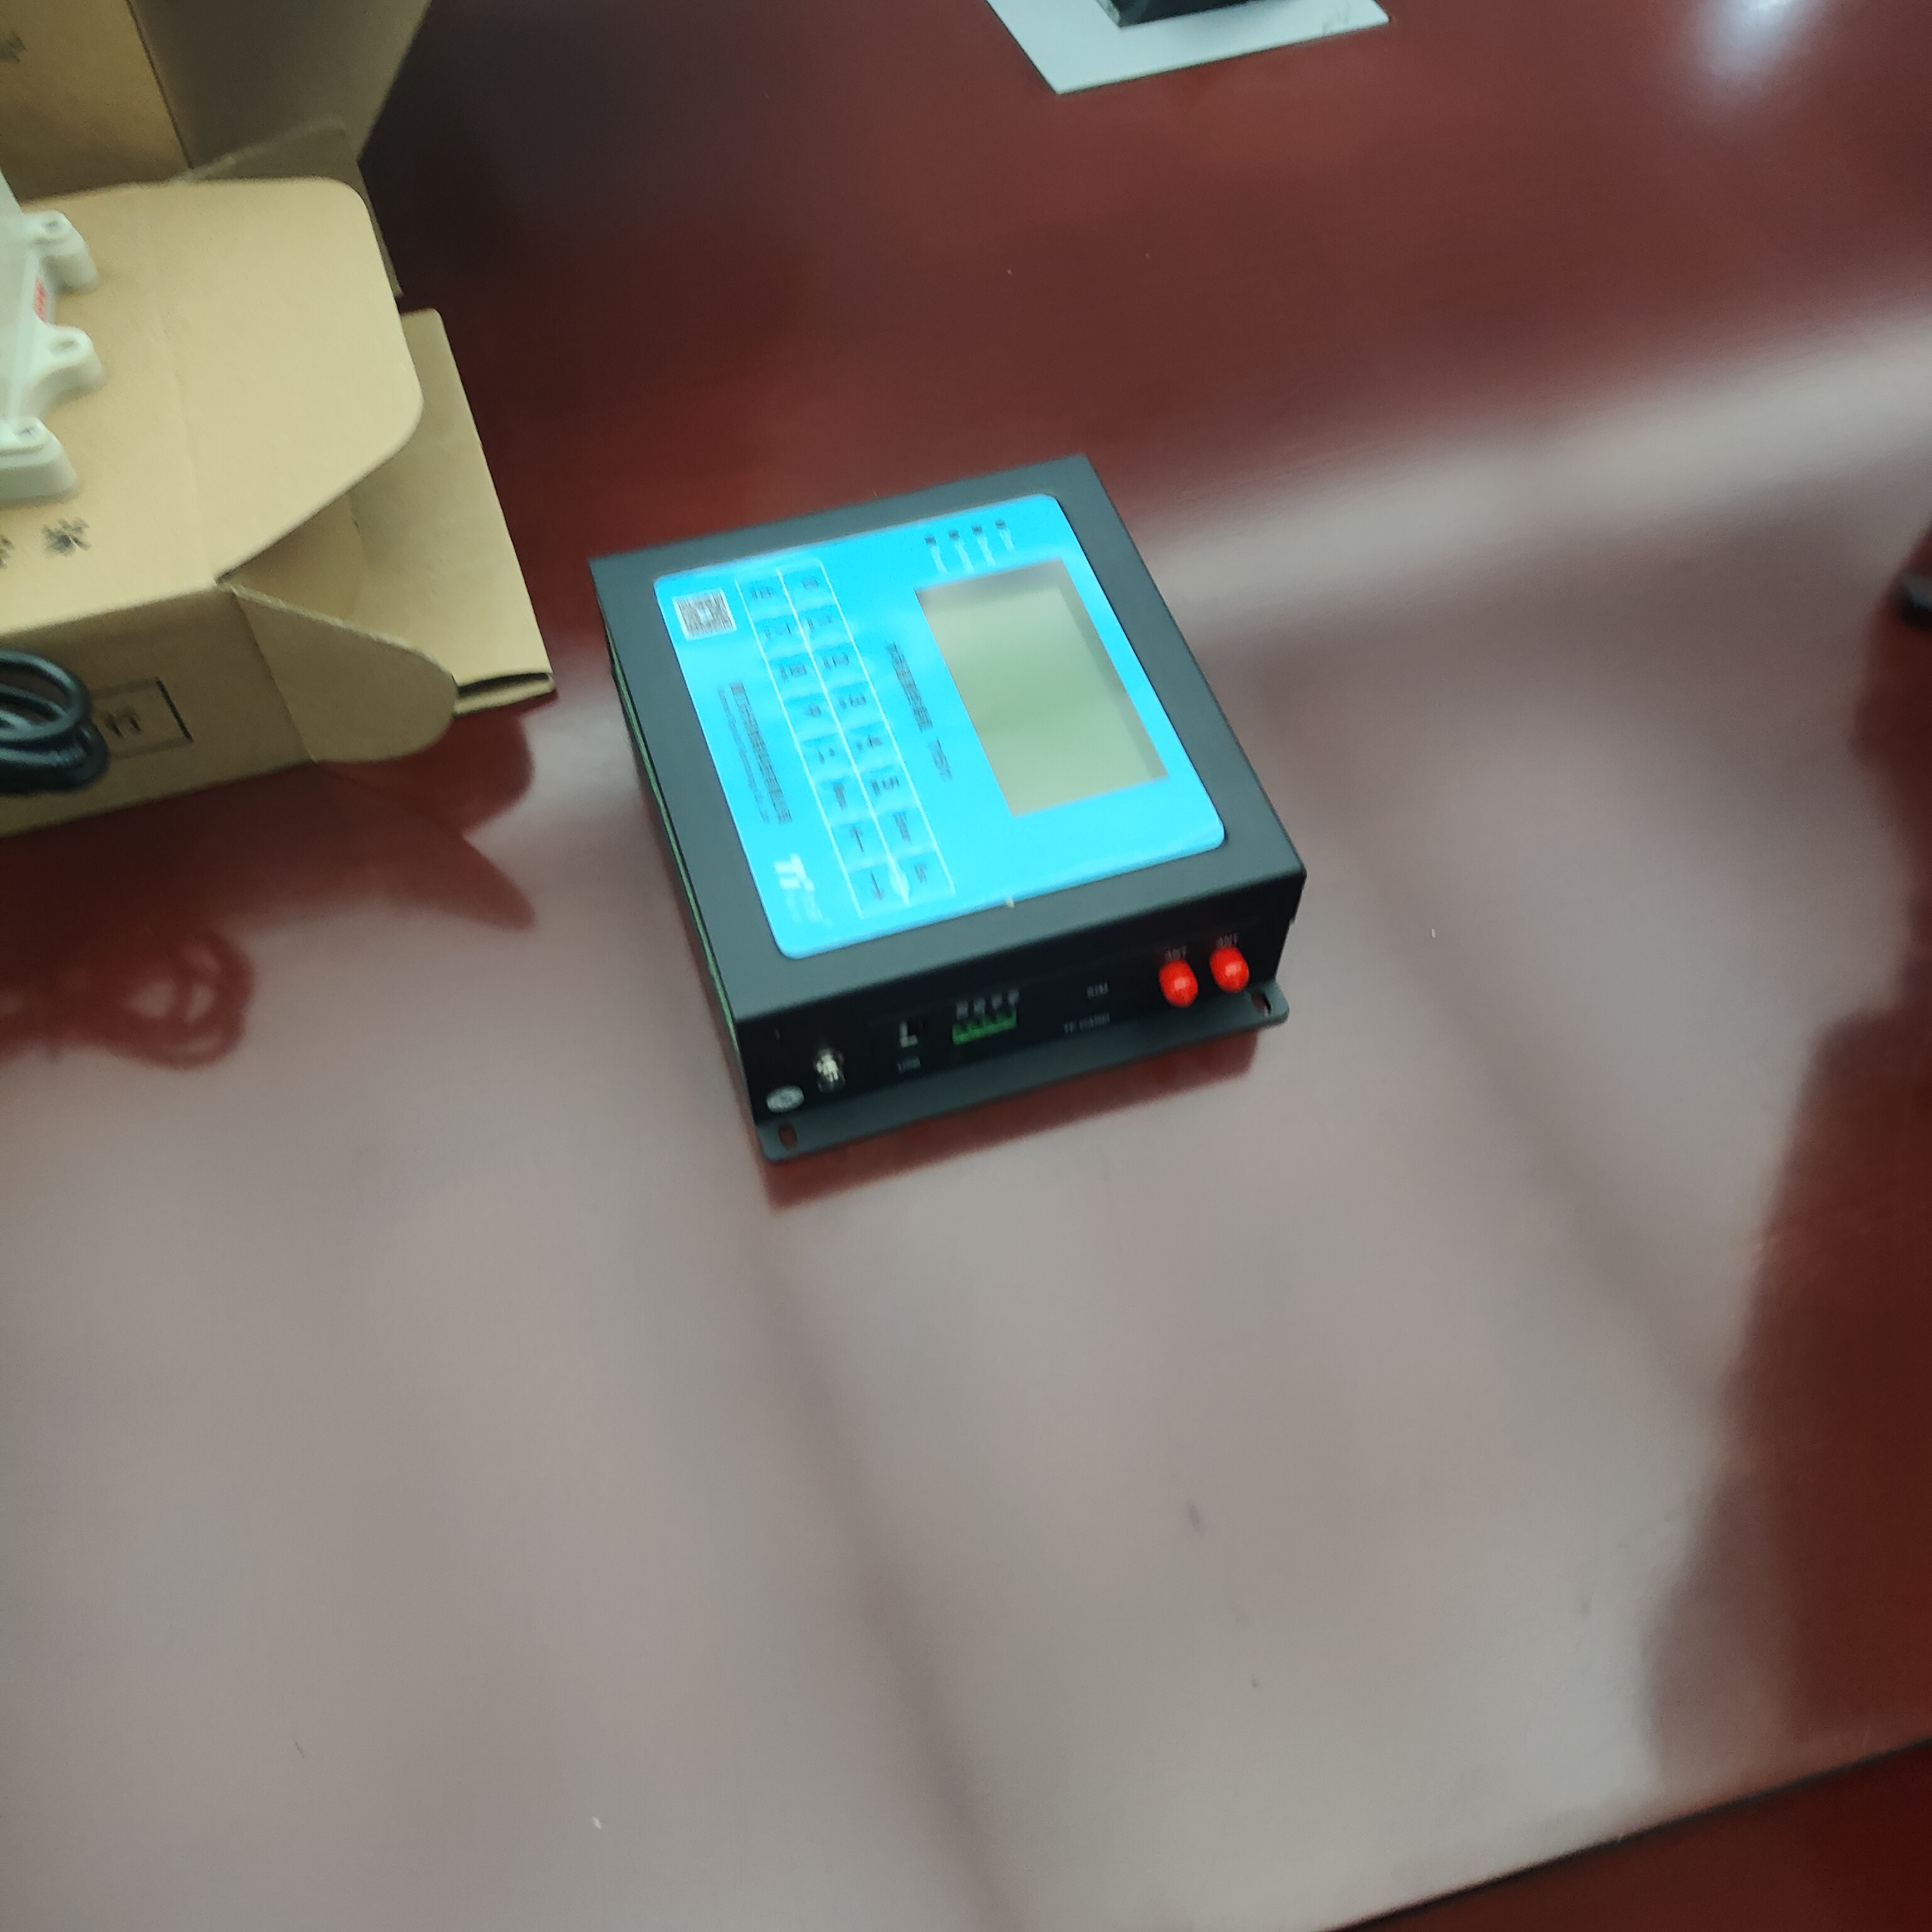slyczd: (580, 403, 1338, 1210)
